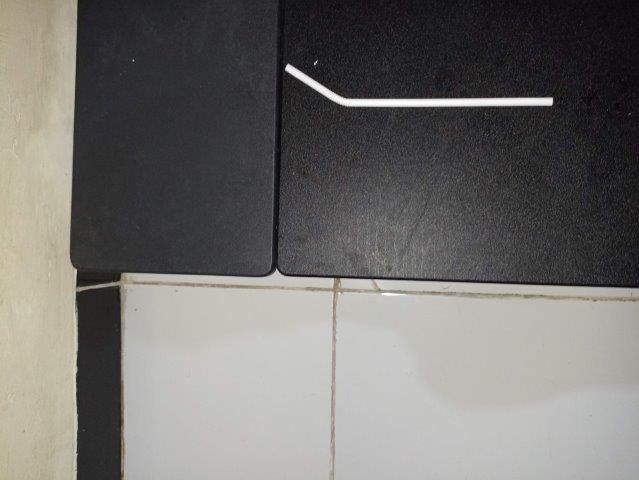sedotan: (285, 64, 553, 106)
